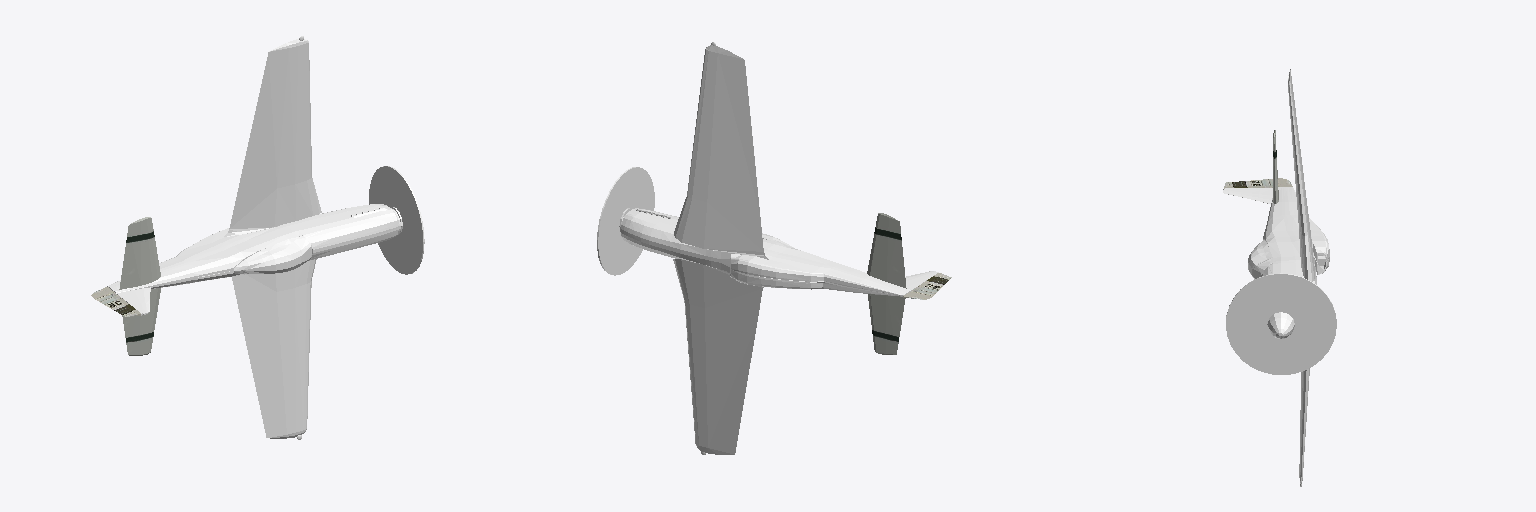
The picture shows the model from 3 angles: view 1: azimuth 30°, elevation 25°; view 2: azimuth 150°, elevation 25°; view 3: azimuth 270°, elevation 25°; orthographic projection.
Visible parts, largest first — view 1: VIFS10, VIFS01, VIFS06, VIFS24, VIFS03, VIFS09, VIFS07, VIFS14; view 2: VIFS10, VIFS01, VIFS06, VIFS24, VIFS09, VIFS07; view 3: VIFS24, VIFS01, VIFS10, VIFS05, VIFS14.
Part boxes in pixels (left/top/right/bottom): VIFS10: left=224, top=39, right=321, bottom=438; VIFS01: left=107, top=204, right=400, bottom=293; VIFS06: left=119, top=217, right=160, bottom=355; VIFS24: left=369, top=166, right=424, bottom=274; VIFS03: left=242, top=239, right=310, bottom=273; VIFS09: left=148, top=227, right=400, bottom=288; VIFS07: left=91, top=287, right=140, bottom=316; VIFS14: left=117, top=287, right=150, bottom=314; VIFS10: left=673, top=45, right=768, bottom=454; VIFS01: left=621, top=208, right=911, bottom=295; VIFS06: left=867, top=213, right=906, bottom=354; VIFS24: left=597, top=167, right=654, bottom=275; VIFS09: left=621, top=231, right=910, bottom=296; VIFS07: left=903, top=273, right=951, bottom=299; VIFS24: left=1226, top=273, right=1336, bottom=374; VIFS01: left=1262, top=187, right=1329, bottom=284; VIFS10: left=1288, top=69, right=1314, bottom=483; VIFS05: left=1267, top=312, right=1294, bottom=338; VIFS14: left=1223, top=188, right=1272, bottom=203.
Bounding box in the file's own units: 6.78 × 8.13 × 2.05.
Materials: 30 (2 with a texture image).